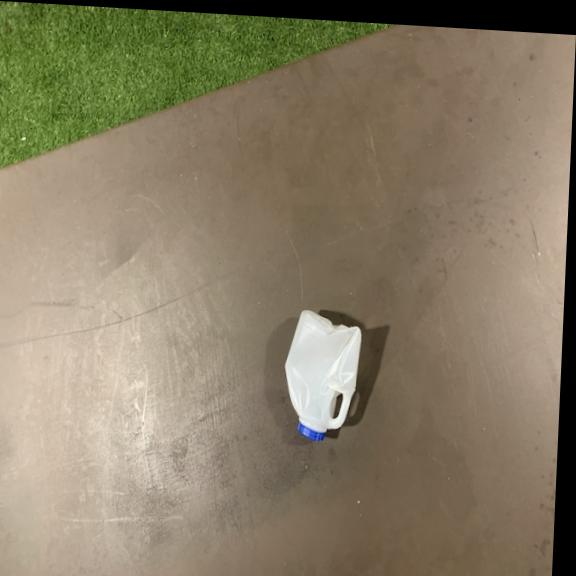Plastik: (280, 302, 364, 447)
